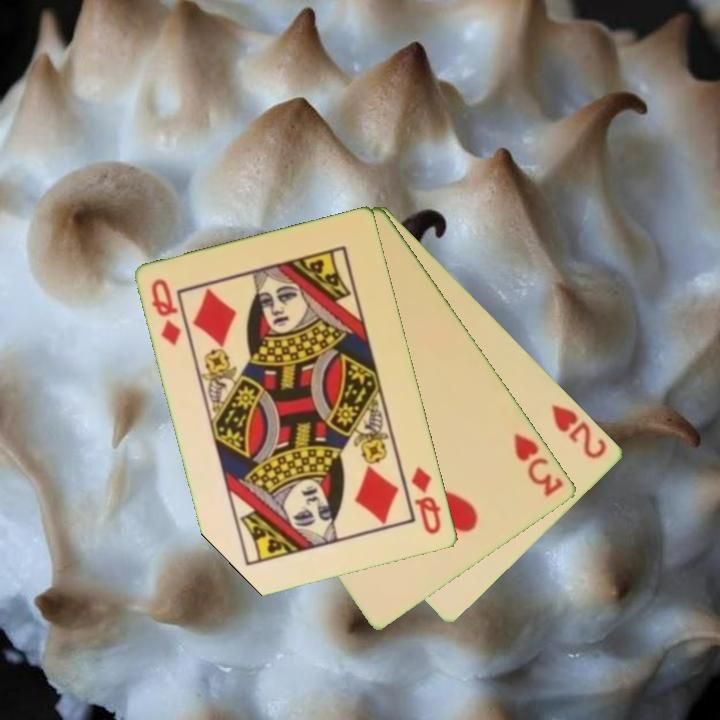2h: (548, 400, 611, 462)
3h: (510, 429, 567, 500)
Qd: (408, 463, 445, 538), (148, 275, 185, 349)
